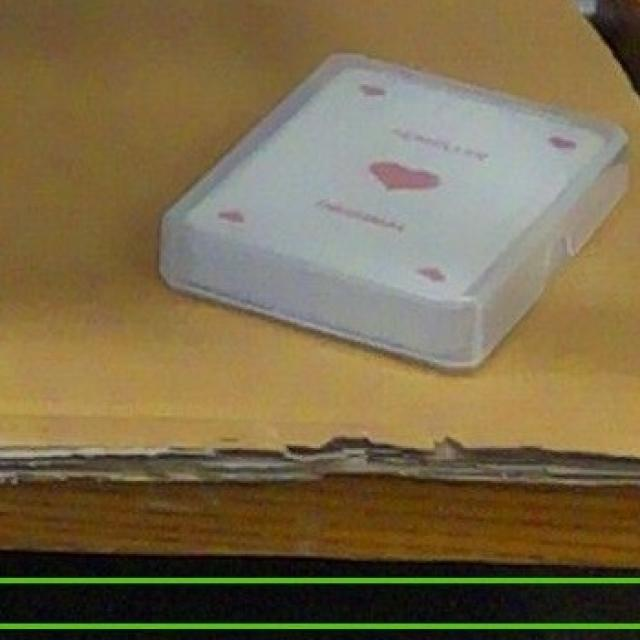Jasskarte: (159, 55, 627, 366)
